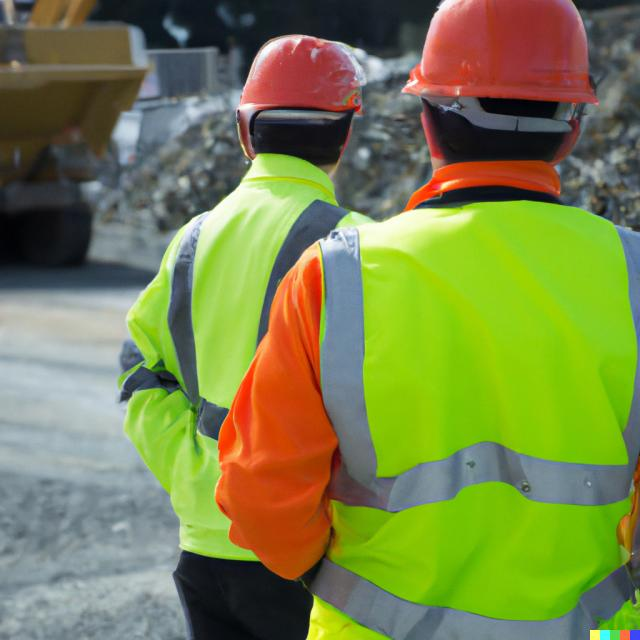Reflective-Jacket: (290, 190, 640, 638), (120, 152, 354, 557)
Safety-Helmet: (402, 1, 600, 108), (229, 30, 369, 120)
